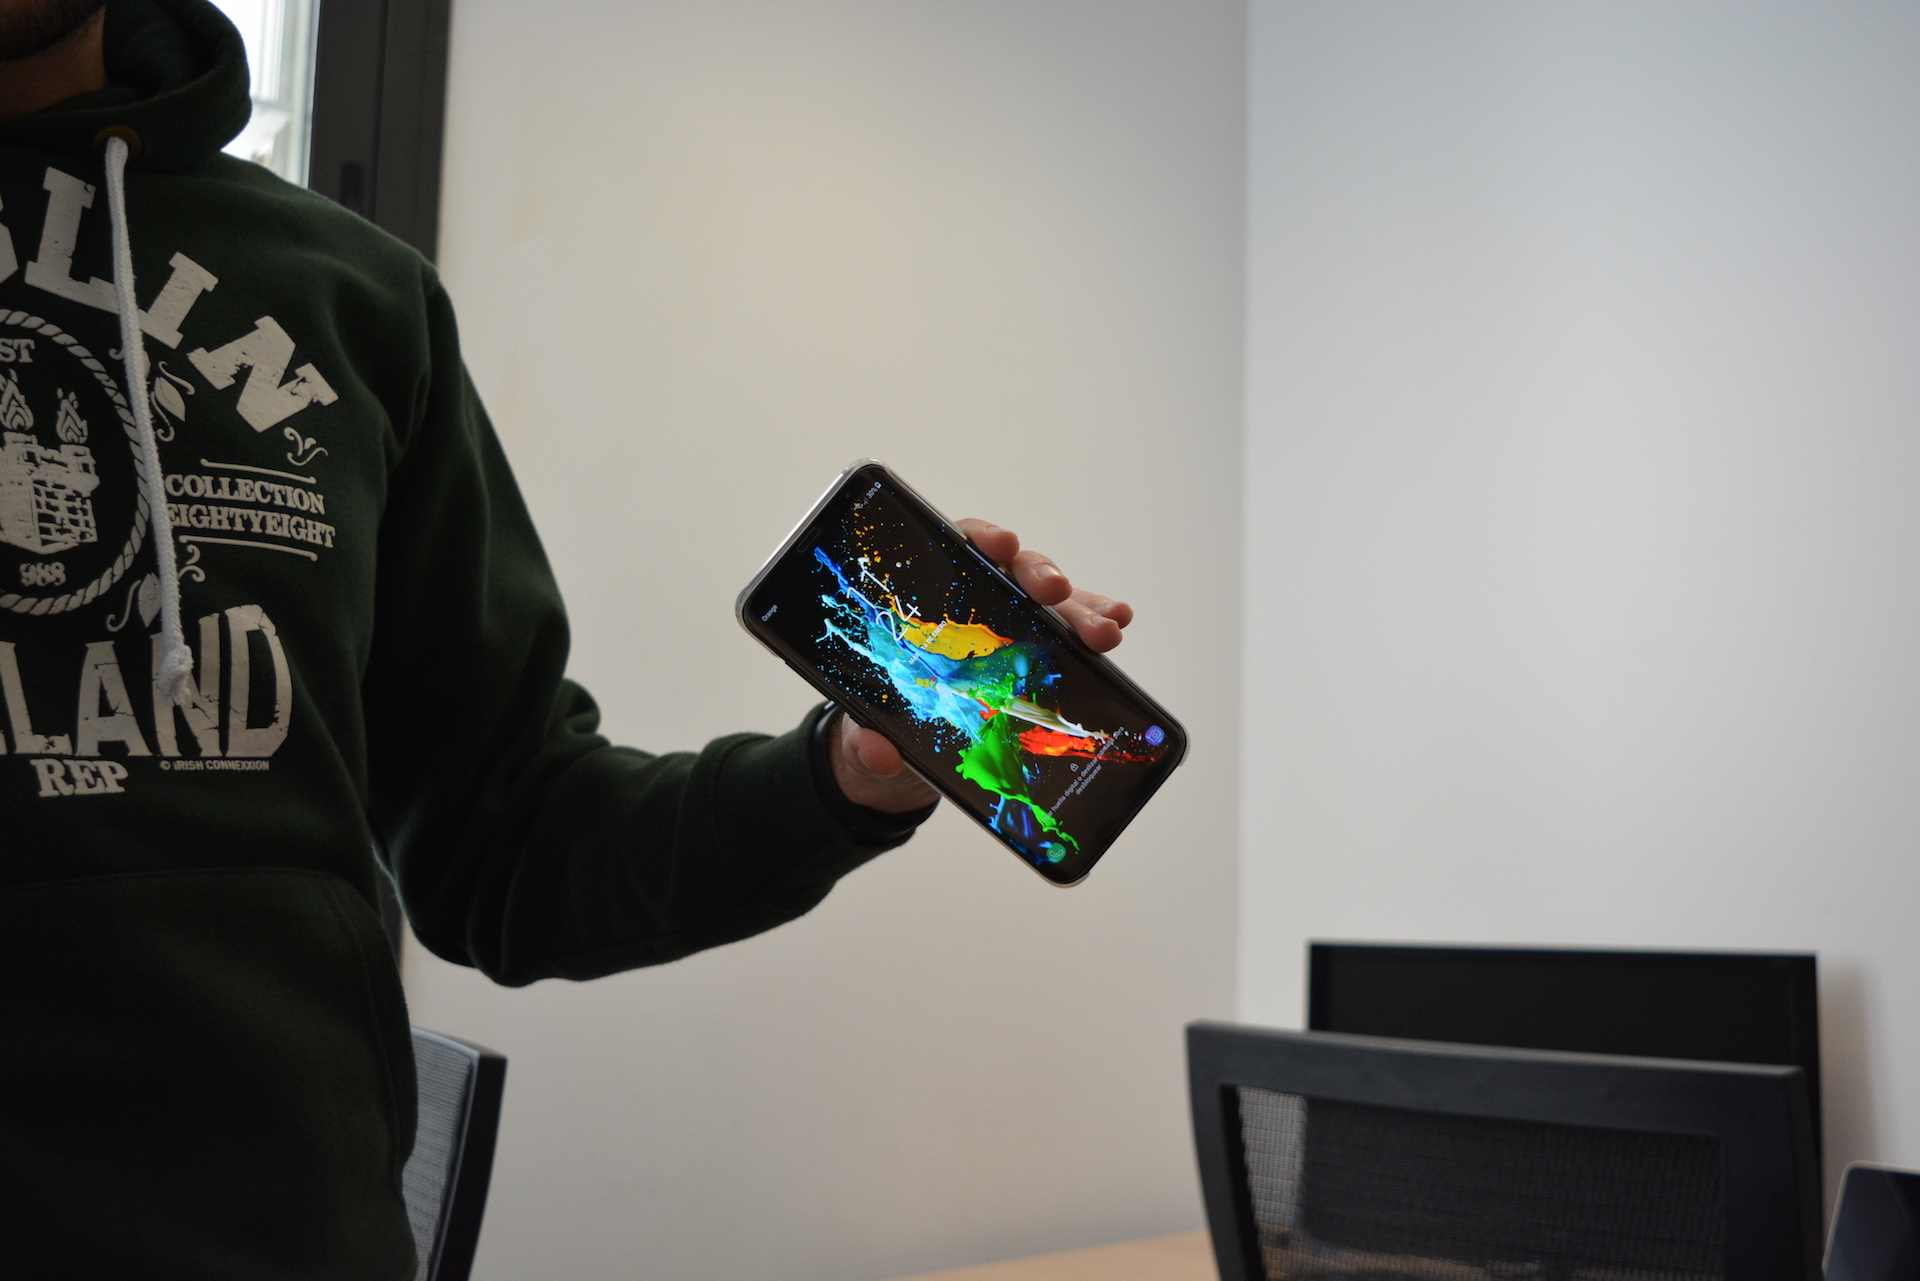smartphone: (732, 453, 1194, 894)
